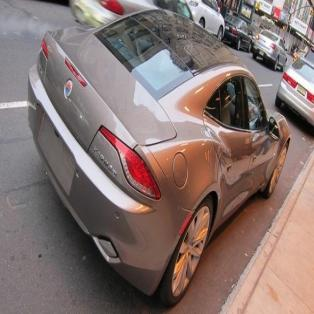Auto: (26, 6, 291, 304)
